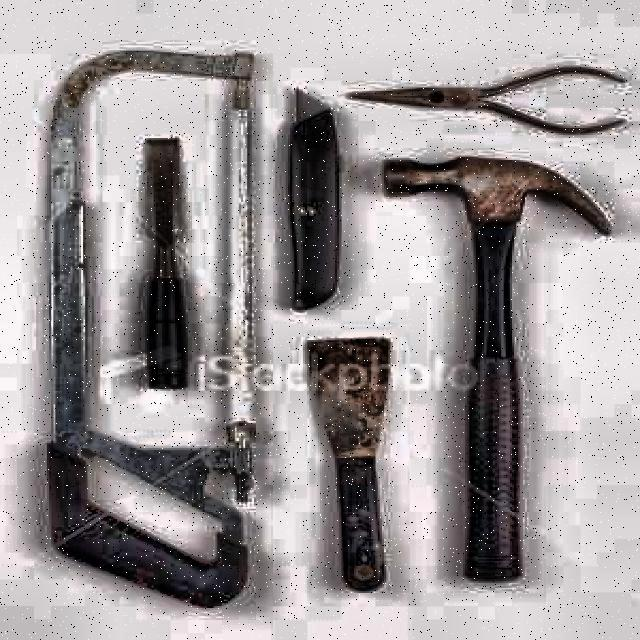hammer: (381, 151, 615, 589)
